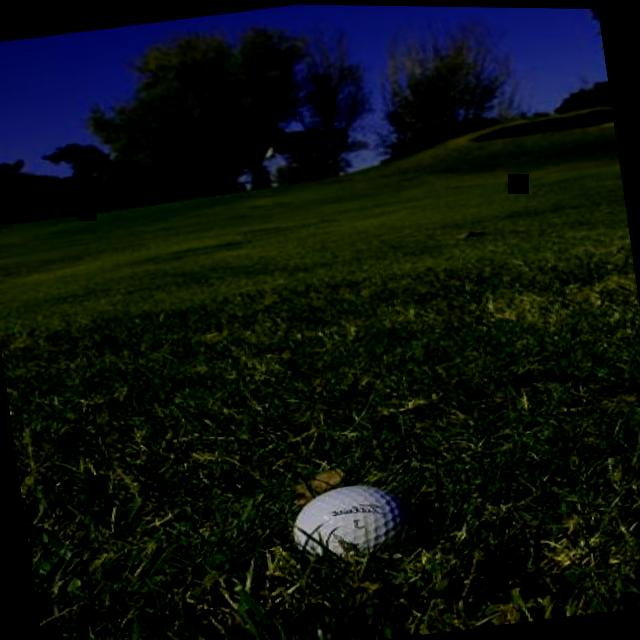golf ball: (286, 470, 412, 574)
